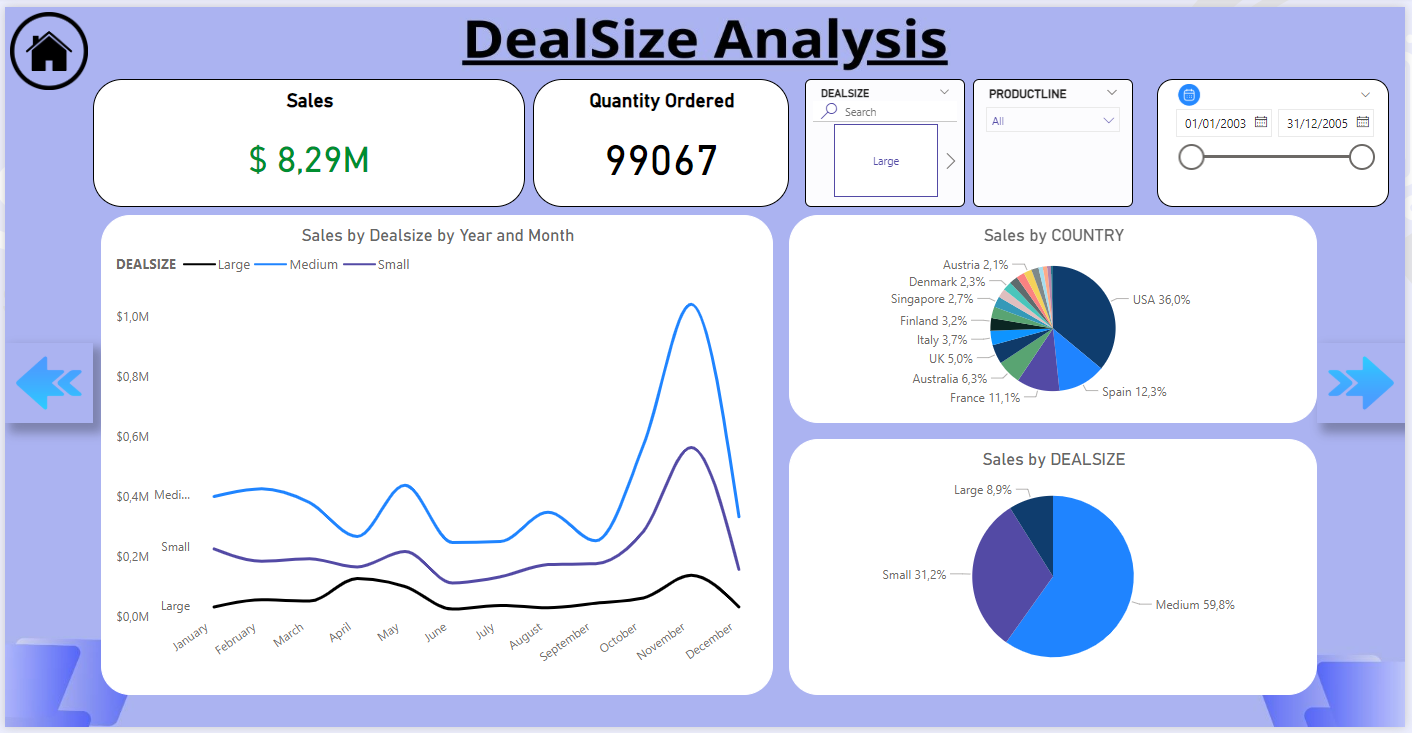

Layout of this report page (visuals, bound fields, positions):
{"tool":"powerbi","page":{"name":"DealSize Analysis","canvas":[1400,720],"ordinal":7},"visuals":[{"type":"slicer","fields":{"Values":["Dim_Calendar.Date"]},"box":[1152,72,232,128],"z":0},{"type":"image","box":[1160,72,48,32],"z":1000},{"type":"image","box":[0,336,88,80],"z":2000},{"type":"image","box":[0,0,88,88],"z":3000},{"type":"cardVisual","title":"Sales","fields":{"Data":["Measure.002 $ Total_Sales"]},"box":[88,72,432,128],"z":4000},{"type":"cardVisual","title":"Quantity Ordered","fields":{"Data":["Measure.001 $ Total_Quantity_Ordered"]},"box":[528,72,256,128],"z":5000},{"type":"slicer","fields":{"Values":["Dim_Product.PRODUCTLINE"]},"box":[968,72,160,128],"z":6000},{"type":"slicer","fields":{"Values":["Dim_DealSize.DEALSIZE"]},"box":[800,72,160,128],"z":7000},{"type":"areaChart","title":"Sales by Dealsize by Year and Month","fields":{"Y":["Measure.002 $ Total_Sales"],"Series":["Dim_DealSize.DEALSIZE"],"Category":["Dim_Calendar.MonthName"]},"box":[96,208,672,480],"z":8000},{"type":"pieChart","title":"Sales by DEALSIZE","fields":{"Y":["Measure.002 $ Total_Ventas"],"Category":["Dim_DealSize.DEALSIZE"]},"box":[784,432,528,256],"z":9000},{"type":"image","box":[1312,336,88,80],"z":10000},{"type":"pieChart","title":"Sales by COUNTRY","fields":{"Category":["Dim_Customer.COUNTRY"],"Y":["Measure.002 $ Total_Sales"]},"box":[784,208,528,208],"z":11000}]}

Visuals, with their boxes in screenshot pixels (x1, y1, x2, y2), scaled from the page's 1400x720 canvas onto the 1412x733 screenshot:
slicer - Dim_Calendar.Date: {"x1": 1162, "y1": 73, "x2": 1396, "y2": 204}
image: {"x1": 1170, "y1": 73, "x2": 1218, "y2": 106}
image: {"x1": 0, "y1": 342, "x2": 89, "y2": 424}
image: {"x1": 0, "y1": 0, "x2": 89, "y2": 90}
"Sales" cardVisual: {"x1": 89, "y1": 73, "x2": 524, "y2": 204}
"Quantity Ordered" cardVisual: {"x1": 533, "y1": 73, "x2": 791, "y2": 204}
slicer - Dim_Product.PRODUCTLINE: {"x1": 976, "y1": 73, "x2": 1138, "y2": 204}
slicer - Dim_DealSize.DEALSIZE: {"x1": 807, "y1": 73, "x2": 968, "y2": 204}
"Sales by Dealsize by Year and Month" areaChart: {"x1": 97, "y1": 212, "x2": 775, "y2": 700}
"Sales by DEALSIZE" pieChart: {"x1": 791, "y1": 440, "x2": 1323, "y2": 700}
image: {"x1": 1323, "y1": 342, "x2": 1411, "y2": 424}
"Sales by COUNTRY" pieChart: {"x1": 791, "y1": 212, "x2": 1323, "y2": 424}
